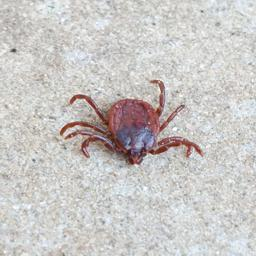Rhipicephalus sanguineus: (59, 79, 206, 164)
